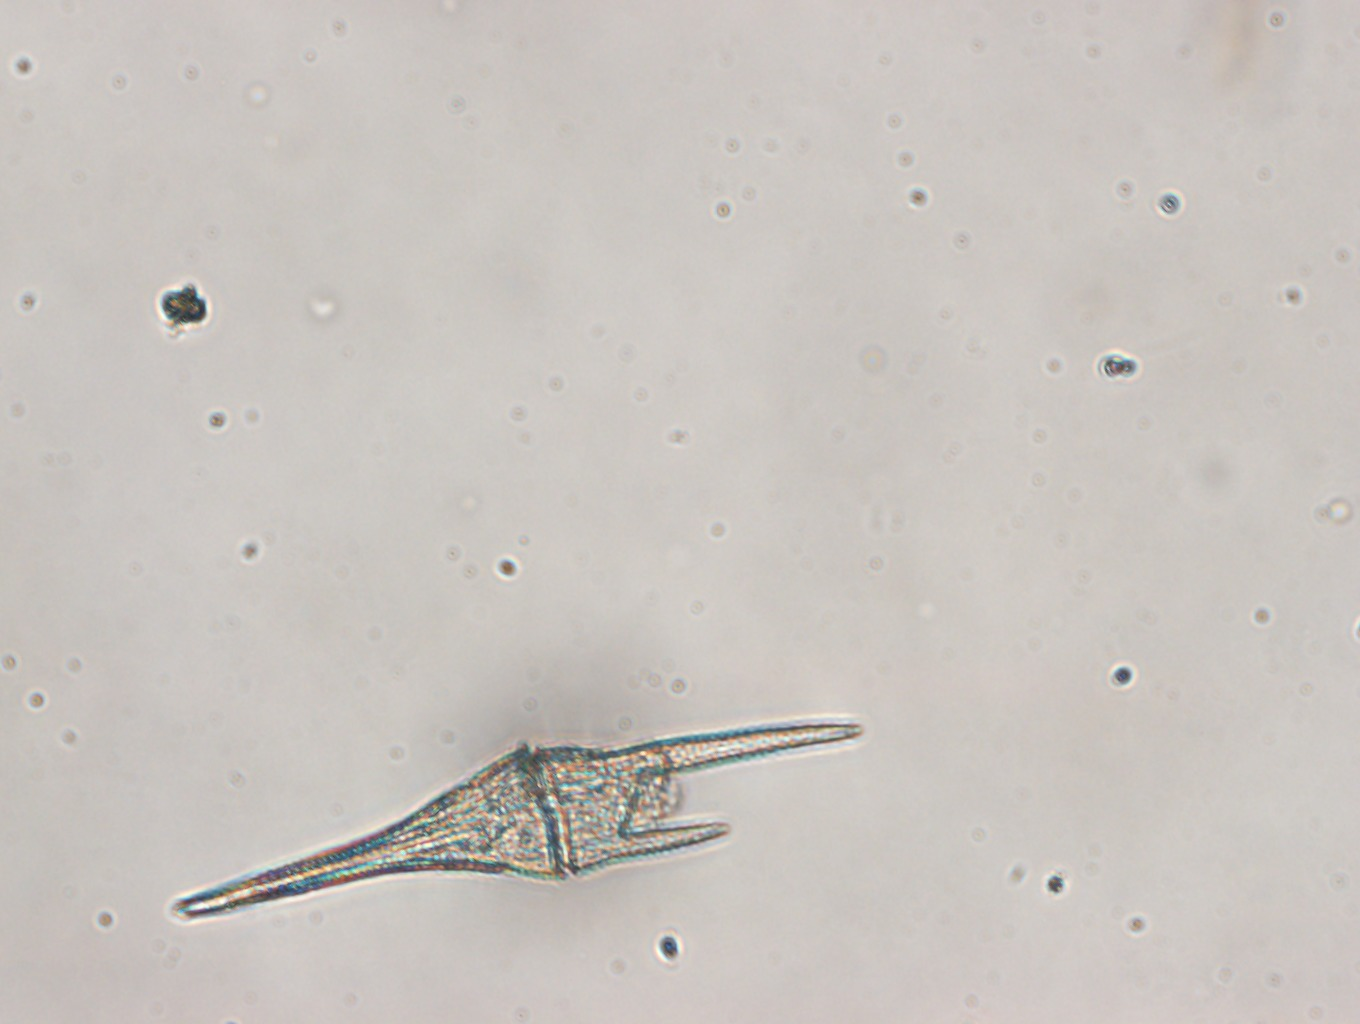ceratium furca: (167, 716, 867, 927)
